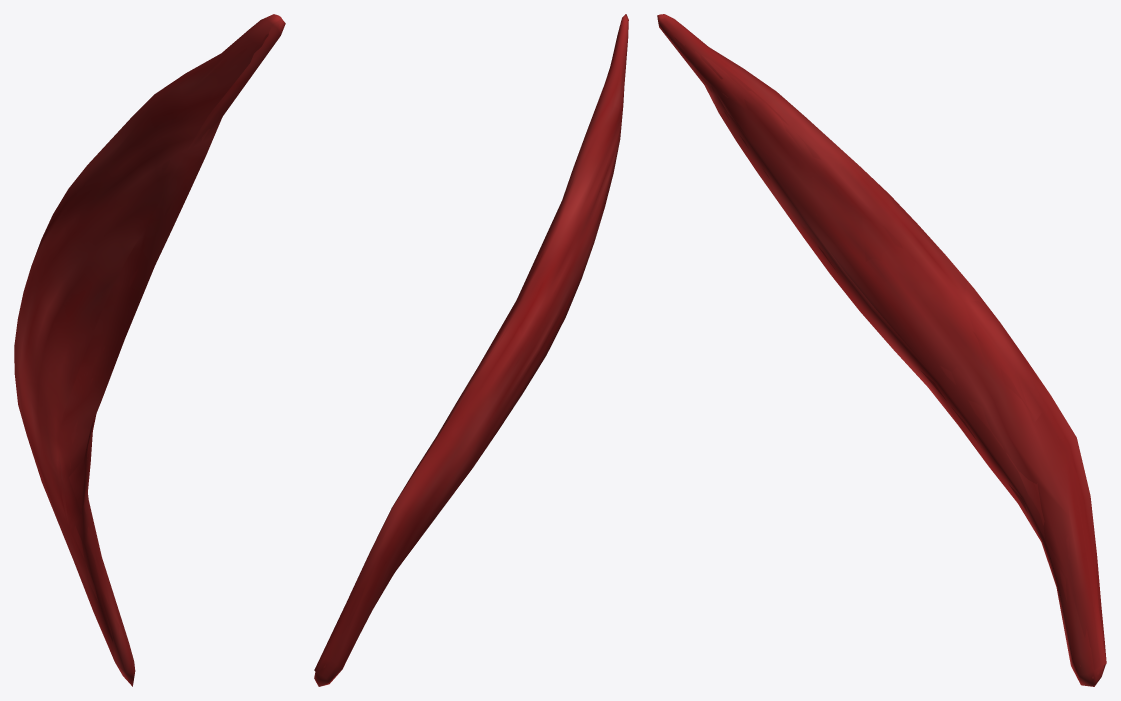
File: L Triceps brachii caput mediale.fbx
The picture shows the model from 3 angles, left to right: view 1: azimuth 30°, elevation 25°; view 2: azimuth 150°, elevation 25°; view 3: azimuth 270°, elevation 25°; orthographic projection. The views are drawn at different scales.
Parts seen in each view (by area): view 1: L Triceps brachii caput mediale, L Triceps brachii caput mediale low, L Triceps brachii caput mediale high; view 2: L Triceps brachii caput mediale, L Triceps brachii caput mediale low, L Triceps brachii caput mediale high; view 3: L Triceps brachii caput mediale low, L Triceps brachii caput mediale, L Triceps brachii caput mediale high.
Part boxes in pixels (box(x1,y1,x2,y2)): L Triceps brachii caput mediale: box(14, 14, 285, 686); L Triceps brachii caput mediale low: box(21, 14, 281, 680); L Triceps brachii caput mediale high: box(30, 33, 268, 658); L Triceps brachii caput mediale: box(314, 14, 628, 686); L Triceps brachii caput mediale low: box(317, 14, 628, 684); L Triceps brachii caput mediale high: box(315, 46, 627, 681); L Triceps brachii caput mediale low: box(658, 17, 1106, 685); L Triceps brachii caput mediale: box(657, 14, 1106, 686); L Triceps brachii caput mediale high: box(659, 16, 1104, 679).
Bounding box in the file's own units: 1.24 × 4.55 × 3.02.
1 material, 1 textured.
